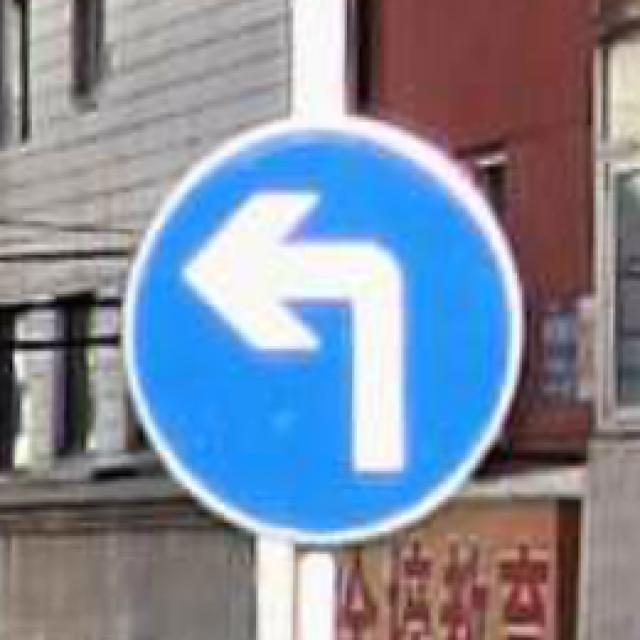left: (118, 126, 534, 546)
